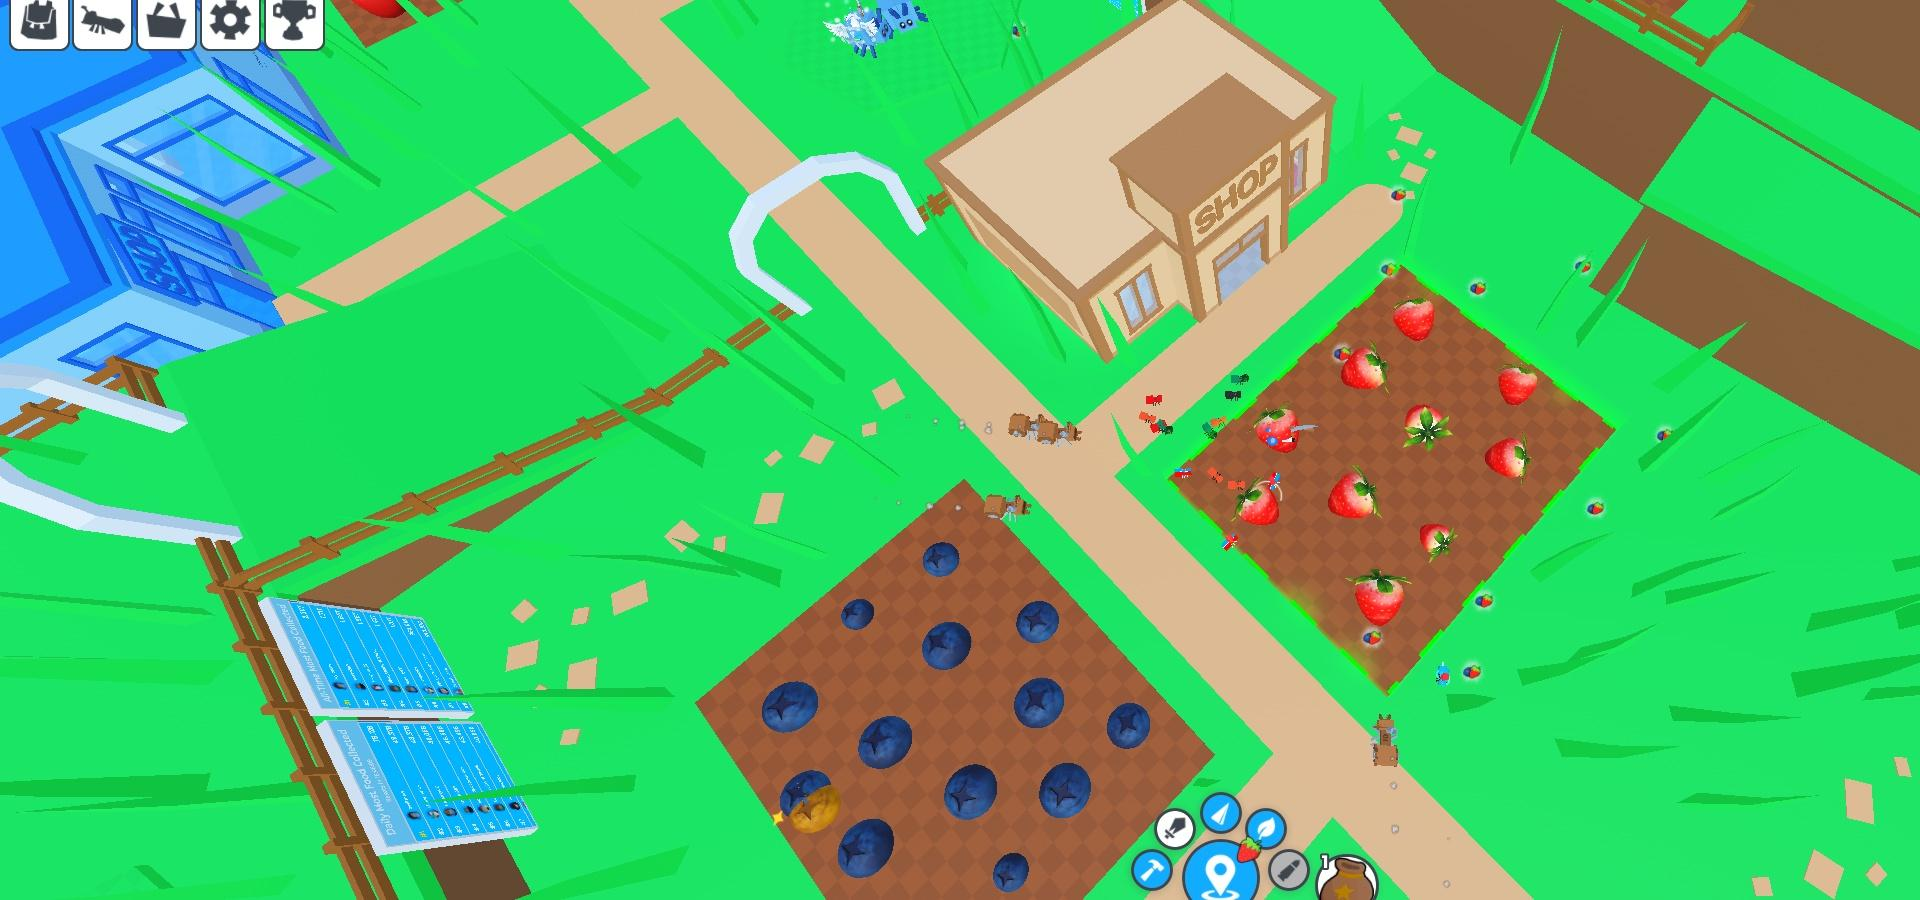Enemy: (873, 0, 933, 36)
